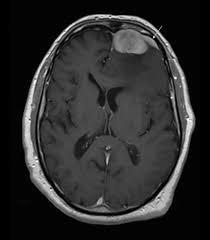Tumour-Meningioma: (105, 25, 161, 66)
